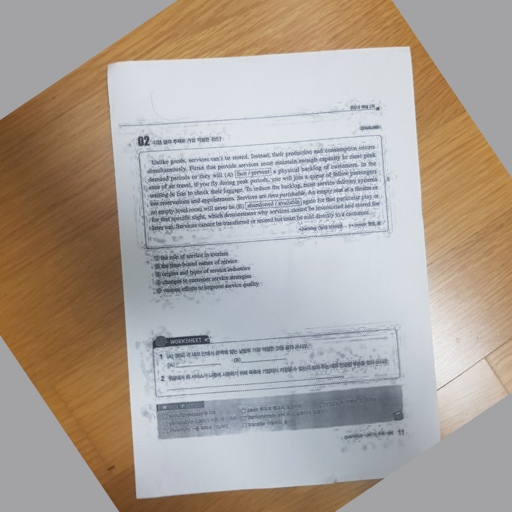Paper_2: (104, 41, 448, 502)
